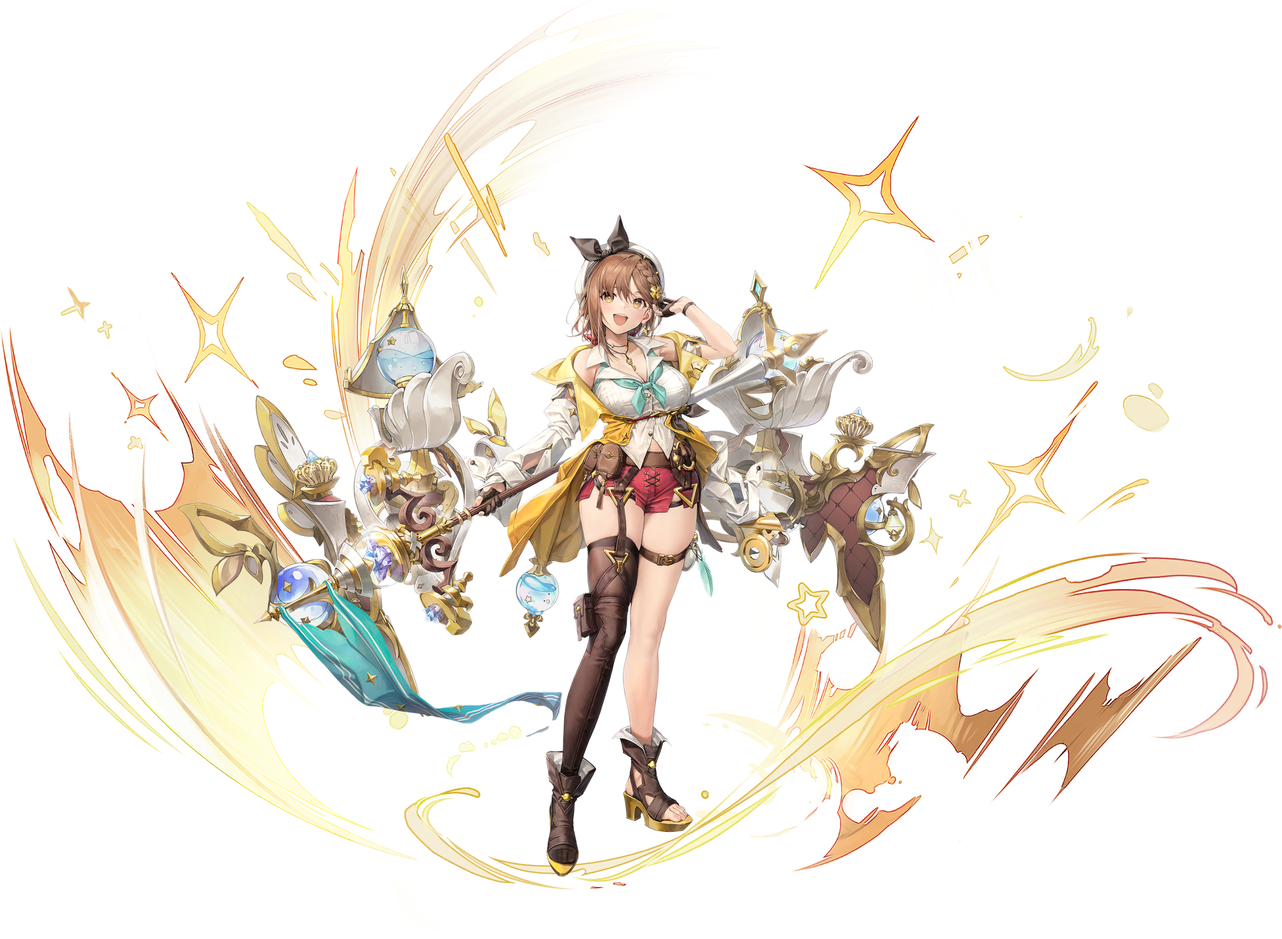person: (448, 203, 791, 891)
